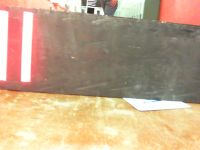switch: (20, 12, 34, 82), (1, 10, 9, 81)
